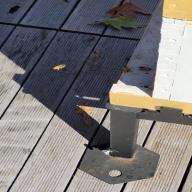Bee: (46, 60, 74, 72), (118, 63, 138, 75)
